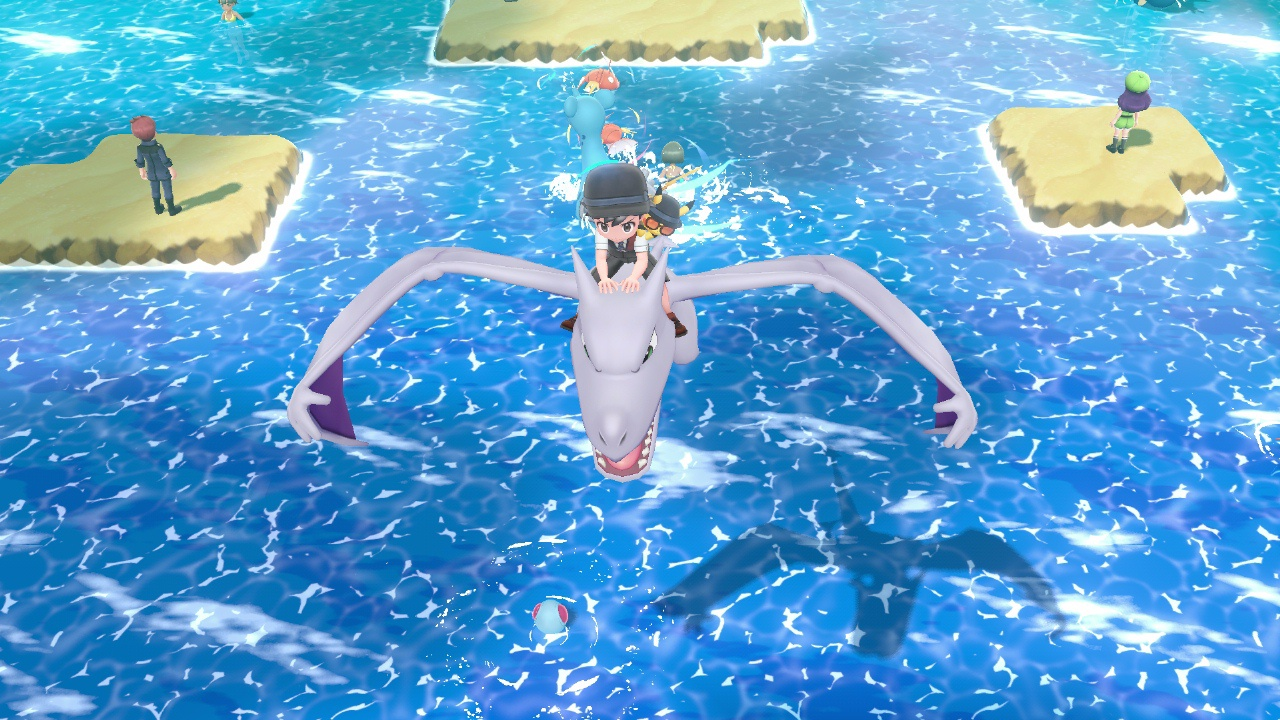Red: (600, 121, 633, 157), (578, 64, 618, 91)
